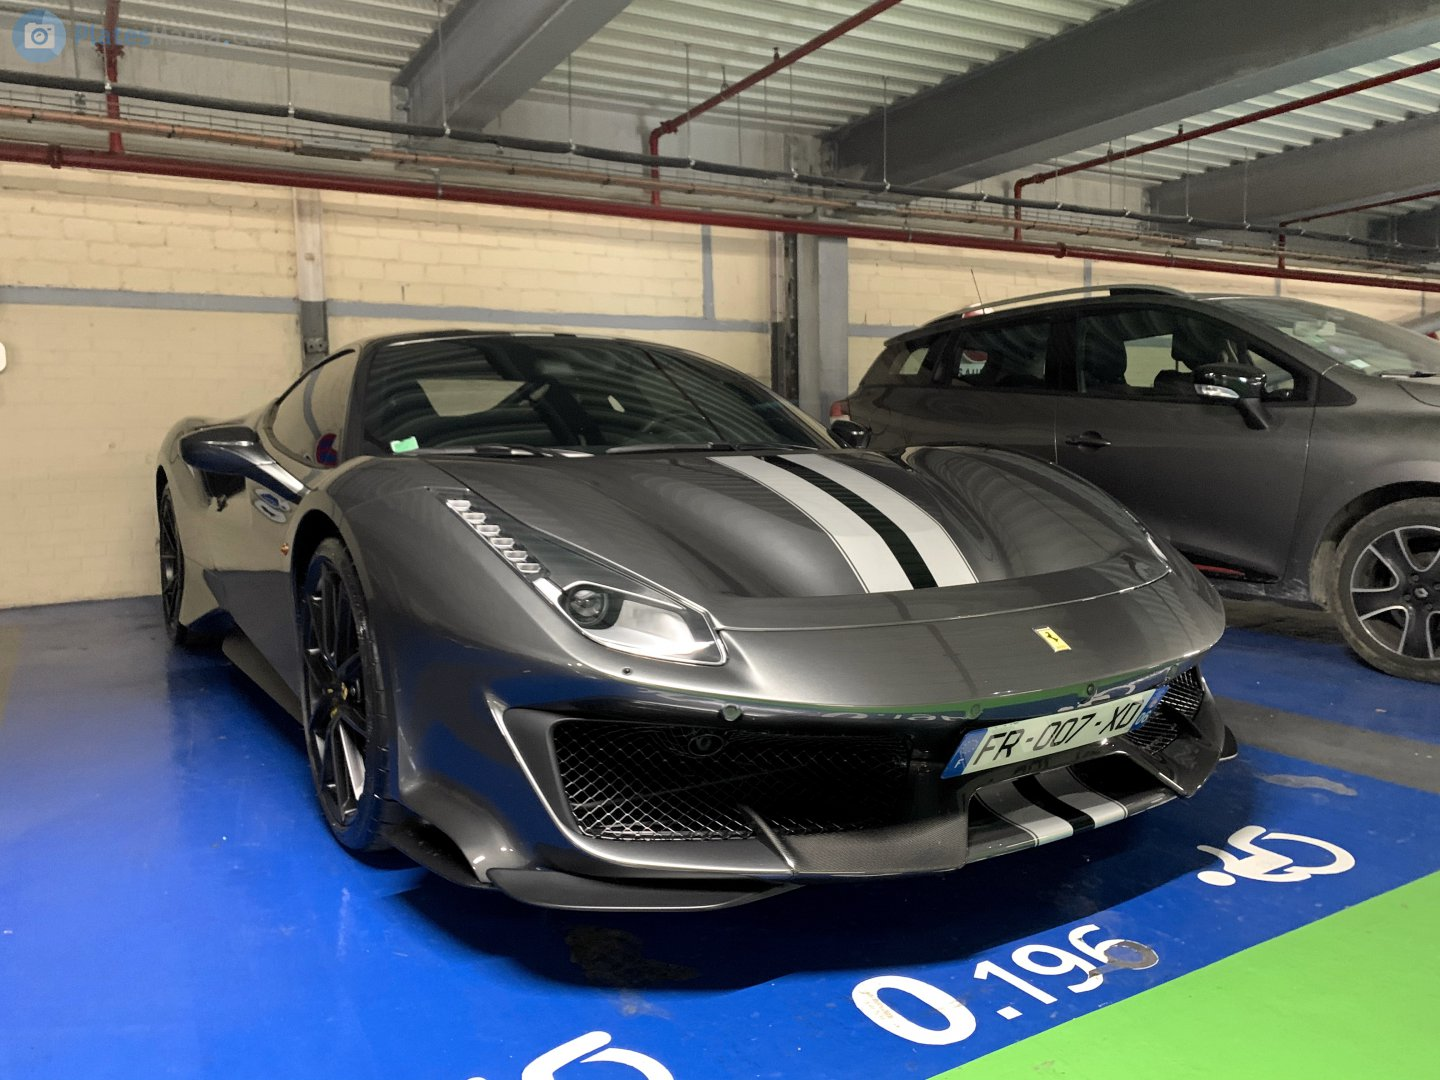licence plate: (936, 682, 1178, 787)
